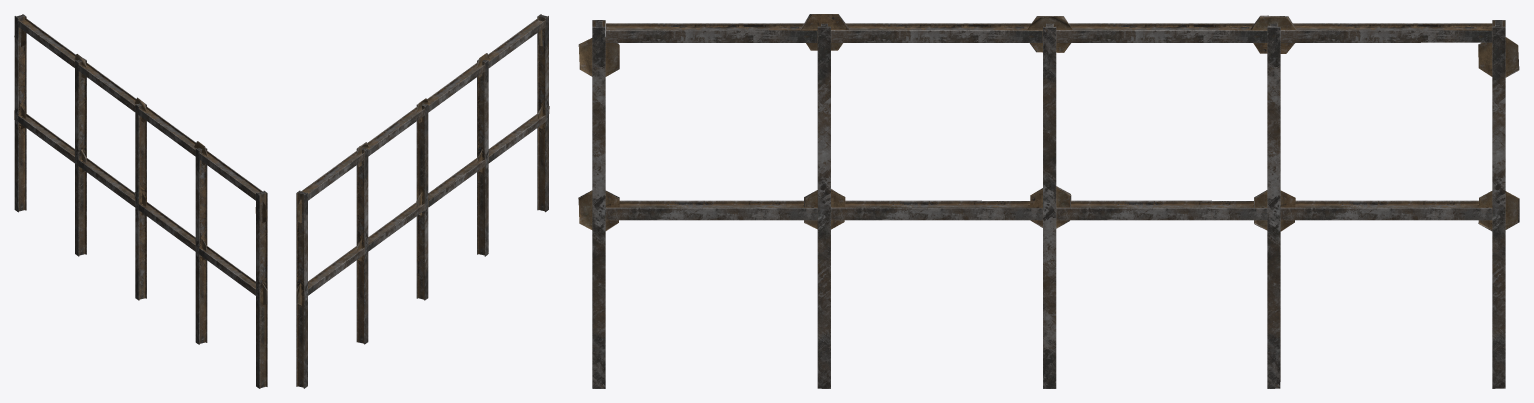
Rendered from SM_Beam_Structure.fbx.
3 views of the same model, side by side, from view 1: azimuth 30°, elevation 25°; view 2: azimuth 150°, elevation 25°; view 3: azimuth 270°, elevation 25° (orthographic). The views are drawn at different scales.
Parts seen in each view (by area): view 1: SM_Beam_Structure_LOD0; view 2: SM_Beam_Structure_LOD0; view 3: SM_Beam_Structure_LOD0.
Boxes of the visible parts, <box> form: SM_Beam_Structure_LOD0: <box>14,14,267,388</box>; SM_Beam_Structure_LOD0: <box>296,14,549,388</box>; SM_Beam_Structure_LOD0: <box>578,14,1519,388</box>.
Size of the model in its own units: 15.26 by 799 by 348.
1 material, 1 textured.
